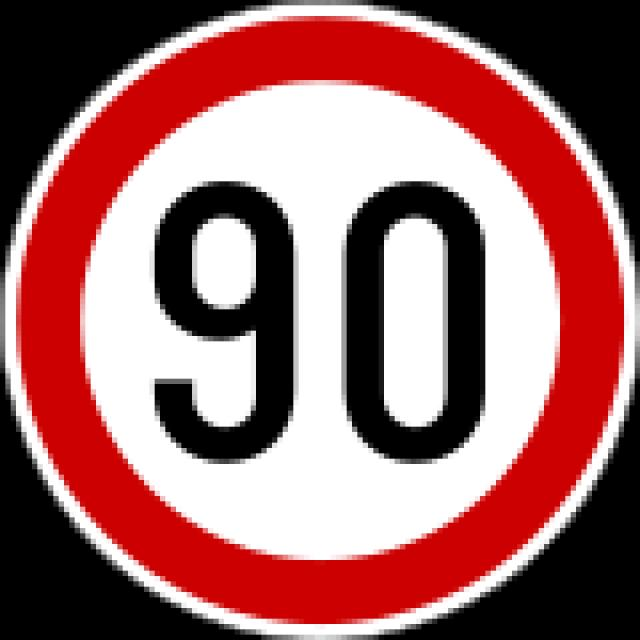Speed Limit -90-: (141, 170, 510, 474)
